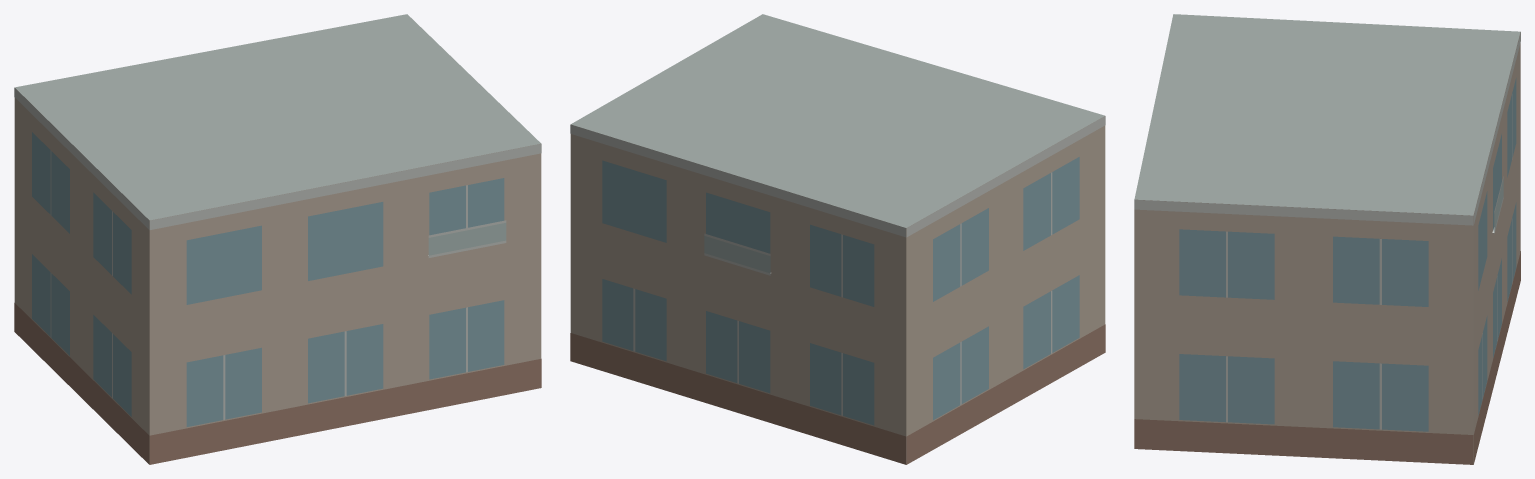
The model's file is survey-upis-32621519.glb.
The picture shows the model from 3 angles, left to right: view 1: azimuth 30°, elevation 25°; view 2: azimuth 150°, elevation 25°; view 3: azimuth 270°, elevation 25°; orthographic projection. The views are drawn at different scales.
Visible parts, largest first — view 1: survey-upis-32621519.tmp; view 2: survey-upis-32621519.tmp; view 3: survey-upis-32621519.tmp.
Part boxes in pixels (x1,y1,x2,y2): survey-upis-32621519.tmp: (14,14,541,464); survey-upis-32621519.tmp: (570,14,1105,464); survey-upis-32621519.tmp: (1134,14,1520,464).
Bounding box in the file's own units: 10.59 × 6.1 × 8.58.
